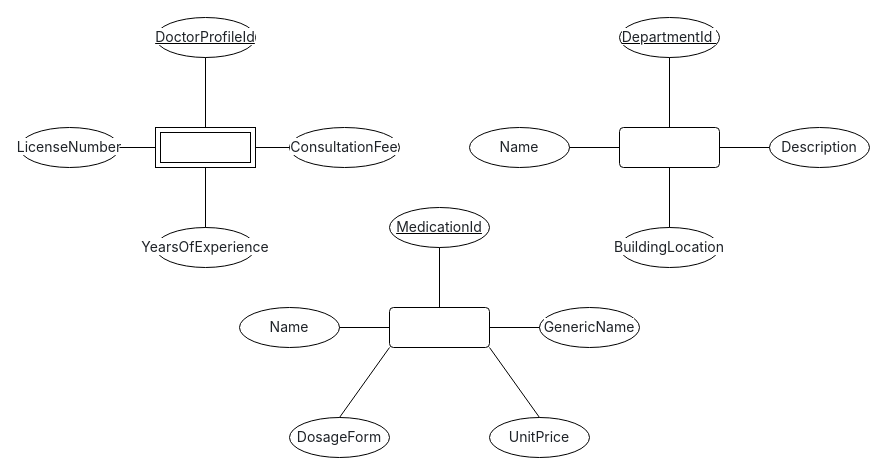
This 887x475 diagram has some shape labels left out. Here are the shapes that lost their labels. From the top down, the box of each, then its label:
(154, 126, 256, 168): DoctorProfile
(618, 126, 720, 168): Department
(388, 306, 490, 348): Medication
